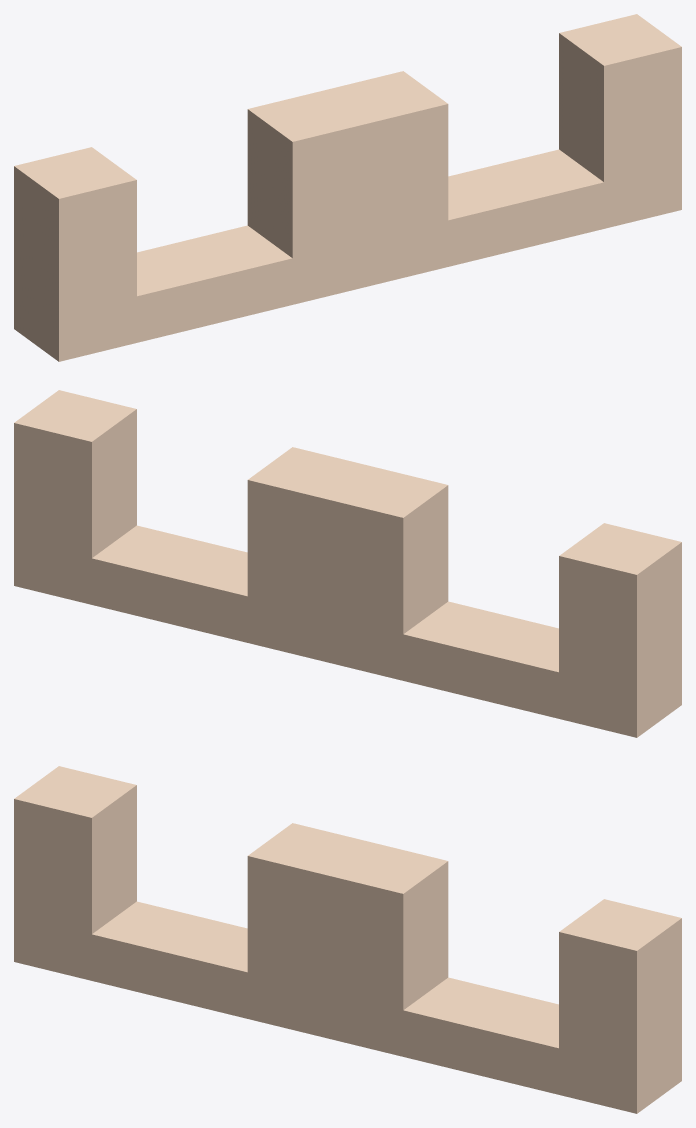
Rendered from Abstract_Modular_Battlements_Front_1.0_Beige_01.fbx.
The picture shows the model from 3 angles, top to bottom: view 1: azimuth 30°, elevation 25°; view 2: azimuth 150°, elevation 25°; view 3: azimuth 330°, elevation 25°; orthographic projection.
Parts seen in each view (by area): view 1: Abstract_Modular_Battlements_Front_1.0_Beige_01; view 2: Abstract_Modular_Battlements_Front_1.0_Beige_01; view 3: Abstract_Modular_Battlements_Front_1.0_Beige_01.
Boxes of the visible parts, x1,y1,x2,y2 form: Abstract_Modular_Battlements_Front_1.0_Beige_01: (14, 14, 681, 361); Abstract_Modular_Battlements_Front_1.0_Beige_01: (14, 390, 681, 737); Abstract_Modular_Battlements_Front_1.0_Beige_01: (14, 766, 681, 1113).
Bounding box in the file's own units: 3000 × 750 × 375.
